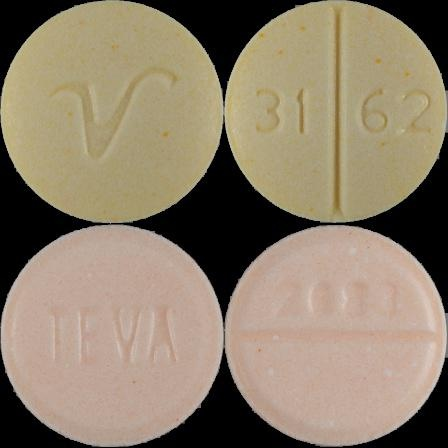52125-202: (0, 0, 224, 224)
